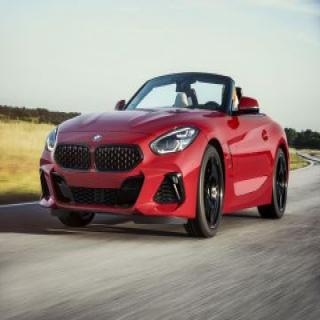Normal_vehicle: (39, 72, 291, 240)
